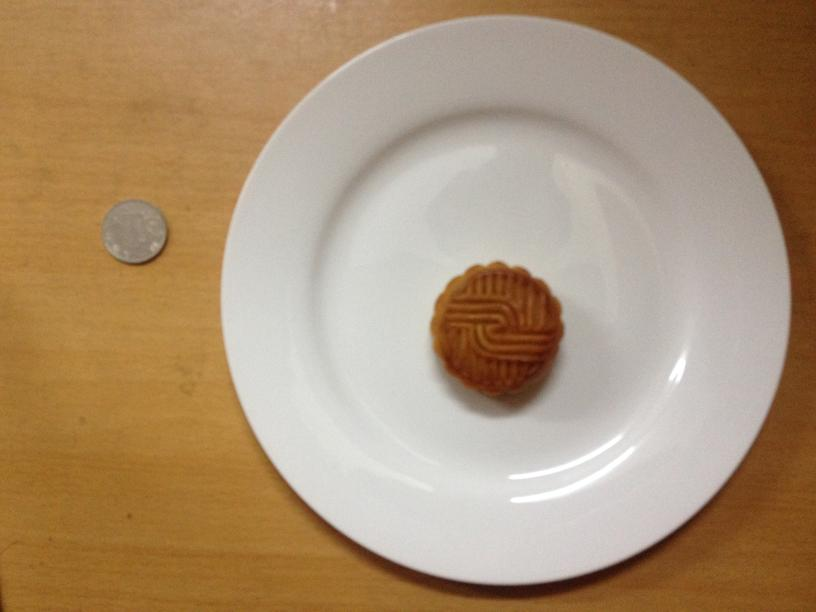coin: (102, 198, 169, 265)
mooncake: (431, 263, 563, 397)
